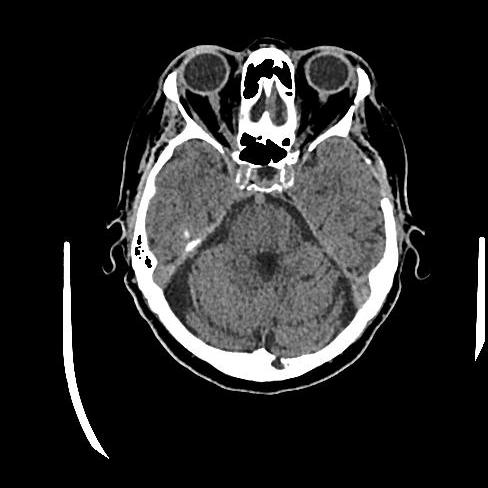Normal_Brain: (96, 38, 438, 395)
